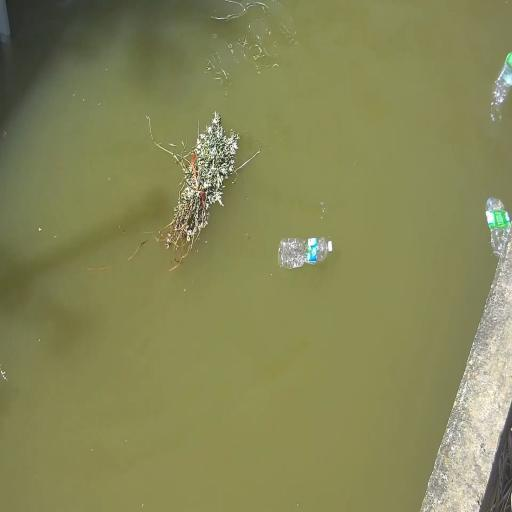plastic: (279, 238, 332, 268), (486, 198, 510, 256), (491, 53, 511, 120)
twig: (147, 112, 251, 254)
